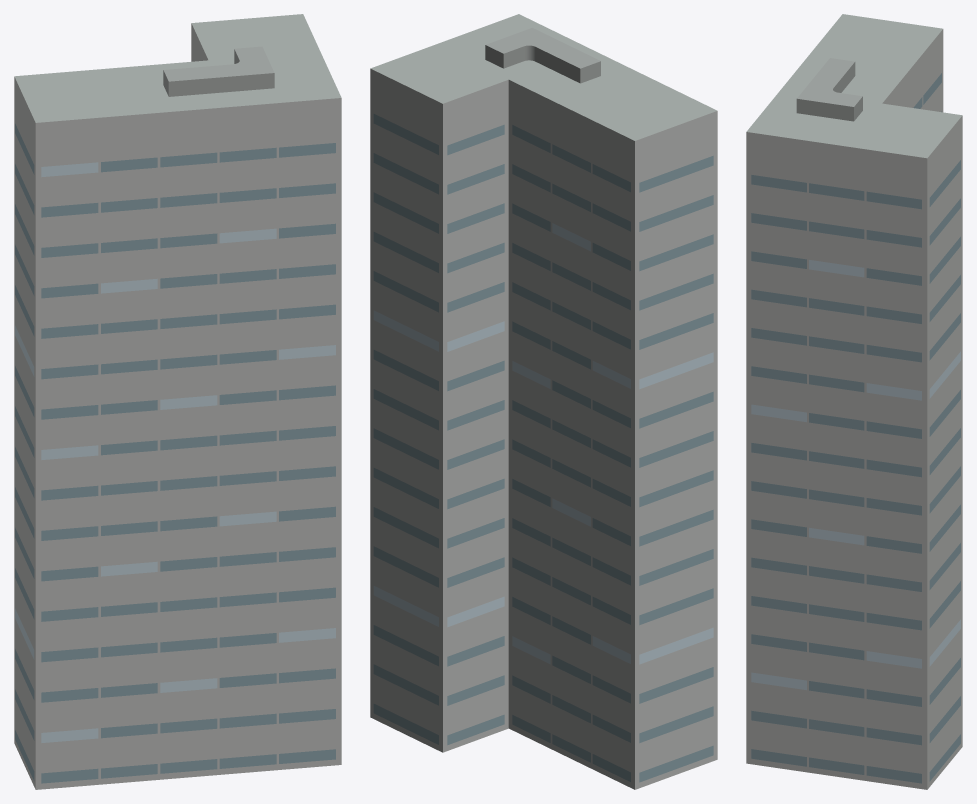
File: fallback-dh-honor-hills-318.glb
The picture shows the model from 3 angles, left to right: view 1: azimuth 30°, elevation 25°; view 2: azimuth 150°, elevation 25°; view 3: azimuth 270°, elevation 25°; orthographic projection. The views are drawn at different scales.
Visible parts, largest first — view 1: fallback-dh-honor-hills-318; view 2: fallback-dh-honor-hills-318; view 3: fallback-dh-honor-hills-318.
Part boxes in pixels (x1,y1,x2,y2): fallback-dh-honor-hills-318: (14,14,341,789); fallback-dh-honor-hills-318: (370,14,717,789); fallback-dh-honor-hills-318: (746,14,962,789).
Bounding box in the file's own units: 51.25 × 107 × 32.46.
